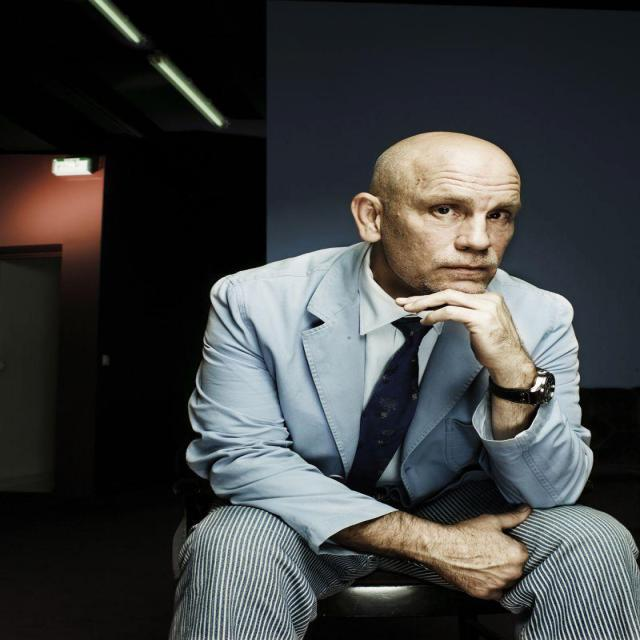no-earmuff: (328, 176, 395, 276)
